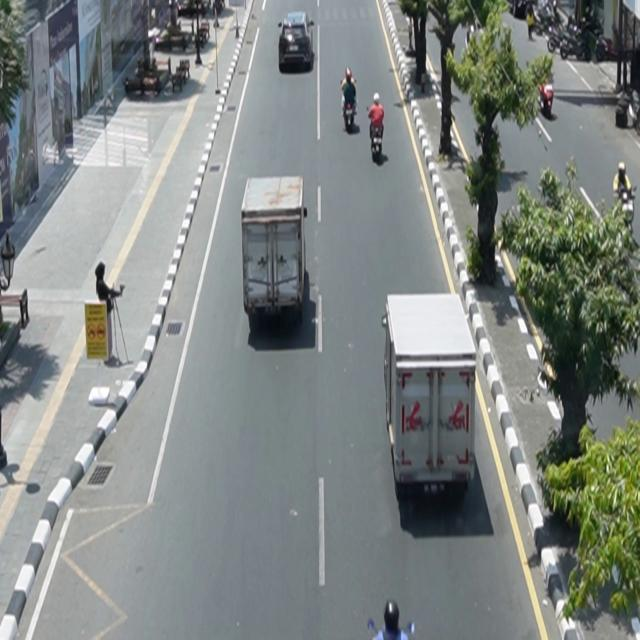car: (279, 11, 315, 71)
truck: (382, 293, 478, 503), (242, 175, 308, 325)
